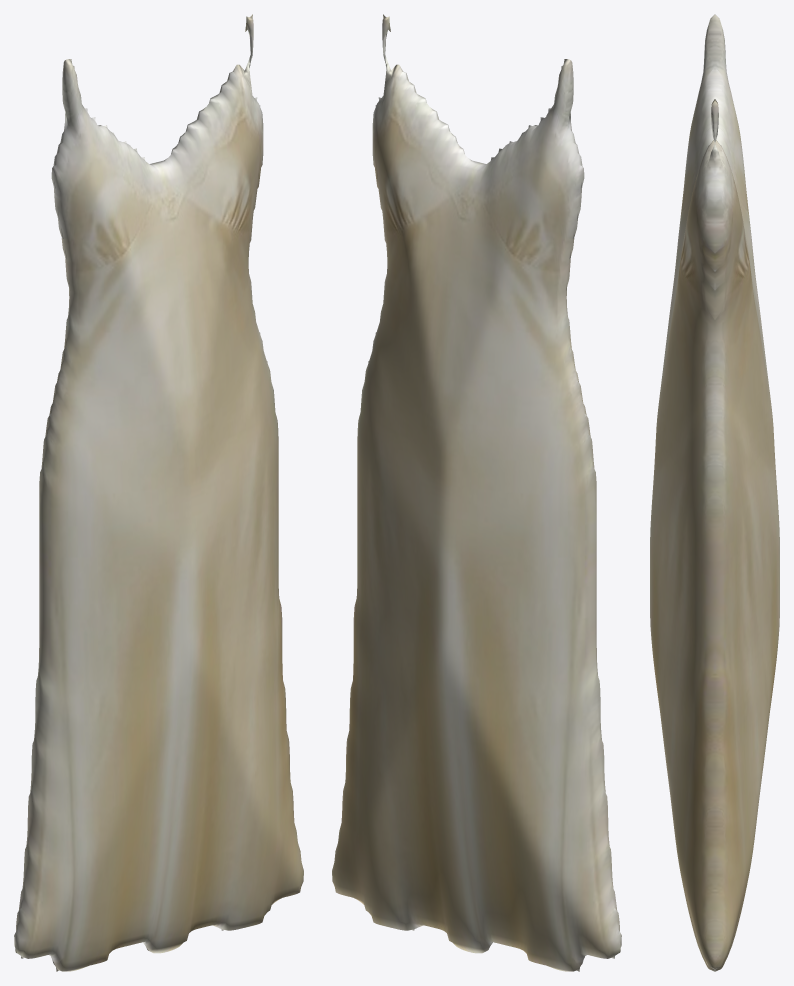
The model's file is prod-ae-butter-lace-slip-midi.glb.
3 views of the same model, side by side, from view 1: azimuth 30°, elevation 25°; view 2: azimuth 150°, elevation 25°; view 3: azimuth 270°, elevation 25° (orthographic). The views are drawn at different scales.
Visible parts, largest first — view 1: prod-ae-butter-lace-slip-midi_standalone; view 2: prod-ae-butter-lace-slip-midi_standalone; view 3: prod-ae-butter-lace-slip-midi_standalone.
Part boxes in pixels (x1=…): prod-ae-butter-lace-slip-midi_standalone: x1=14, y1=14, x2=303, y2=971; prod-ae-butter-lace-slip-midi_standalone: x1=332, y1=14, x2=621, y2=971; prod-ae-butter-lace-slip-midi_standalone: x1=650, y1=14, x2=779, y2=971.
Bounding box in the file's own units: 0.261 × 0.7948 × 0.1071.
1 material, 1 textured.
